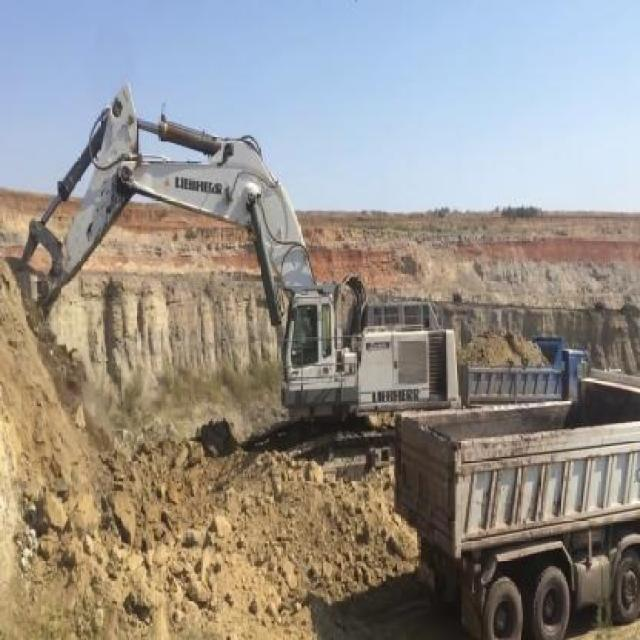dump_truck: (393, 371, 639, 632), (457, 324, 591, 408)
excavator: (16, 74, 461, 472)
